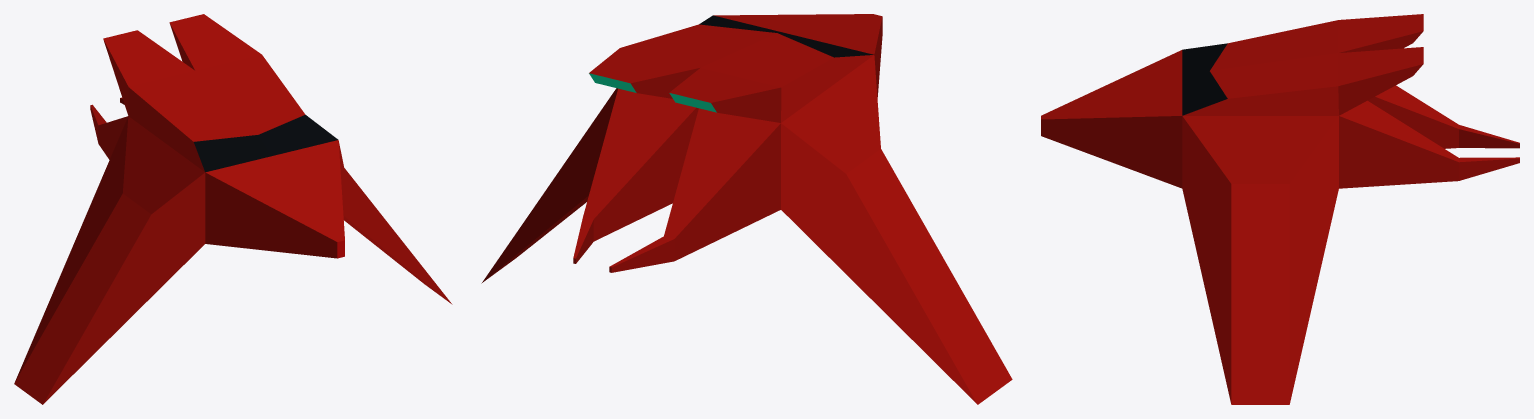
File: starship.obj
3 renders of one model, left to right at view 1: azimuth 30°, elevation 25°; view 2: azimuth 150°, elevation 25°; view 3: azimuth 270°, elevation 25°, orthographic. The views are drawn at different scales.
Parts seen in each view (by area): view 1: Cube; view 2: Cube; view 3: Cube.
Boxes of the visible parts, bbox=[...] form: Cube: bbox=[14, 14, 452, 404]; Cube: bbox=[481, 14, 1012, 404]; Cube: bbox=[1041, 14, 1519, 404].
Size of the model in its own units: 4.18 by 2.53 by 4.16.
